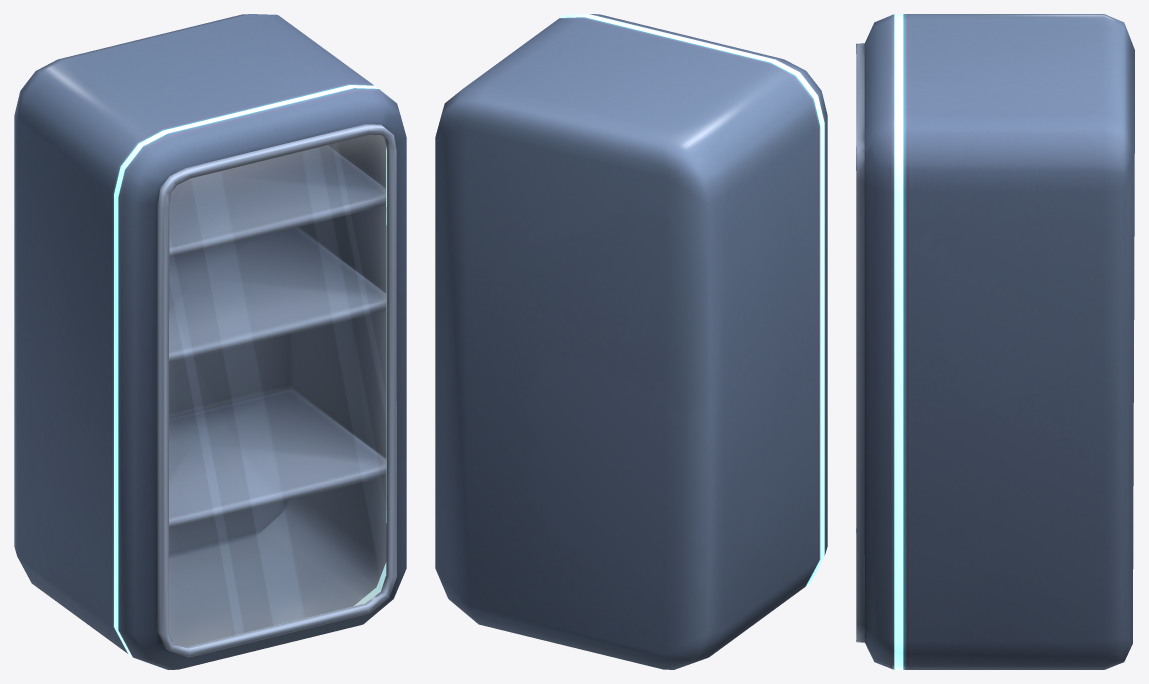
File: obj_fridge01.gltf
3 renders of one model, left to right at view 1: azimuth 30°, elevation 25°; view 2: azimuth 150°, elevation 25°; view 3: azimuth 270°, elevation 25°, orthographic. The views are drawn at different scales.
Visible parts, largest first — view 1: obj_fridge01; view 2: obj_fridge01; view 3: obj_fridge01.
Part boxes in pixels (x1,y1,x2,y2): obj_fridge01: (14,14,406,669); obj_fridge01: (435,14,827,669); obj_fridge01: (856,14,1134,669).
Size of what is drawn, in the model's own units: 1.46 by 2.63 by 1.19.
Materials: 3 (2 with a texture image).
